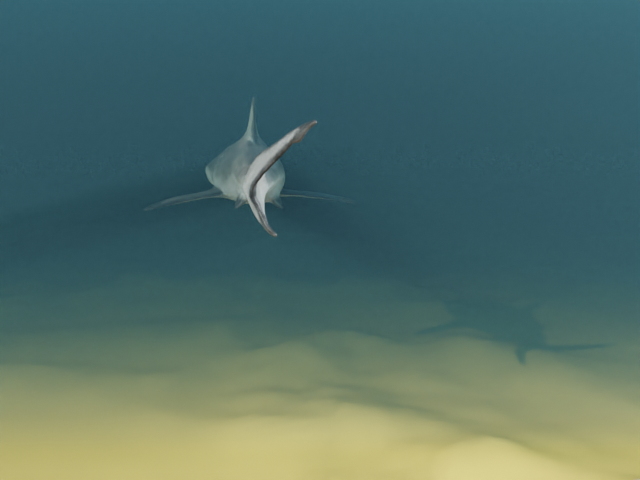Carribean Shark.001: (143, 96, 355, 237)
